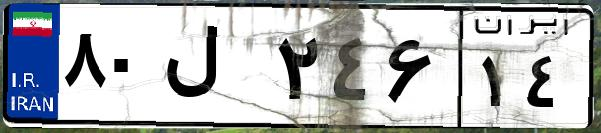0: (110, 28, 158, 98)
1: (475, 38, 525, 113)
2: (270, 28, 330, 110)
4: (330, 28, 385, 110), (525, 38, 570, 115)
6: (385, 28, 445, 110)
8: (57, 26, 110, 100)
ل: (158, 20, 270, 120)
